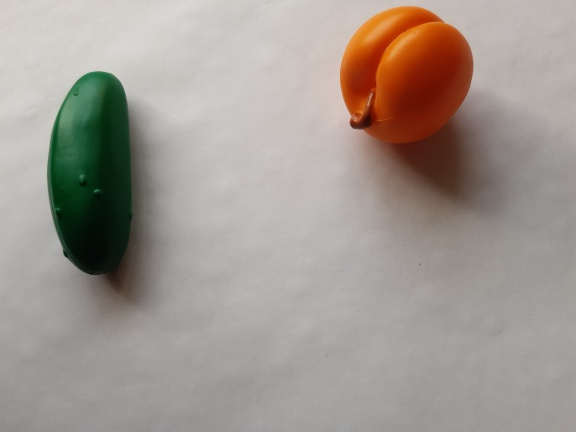apricot: (327, 1, 481, 157)
cucumber: (31, 67, 149, 294)
